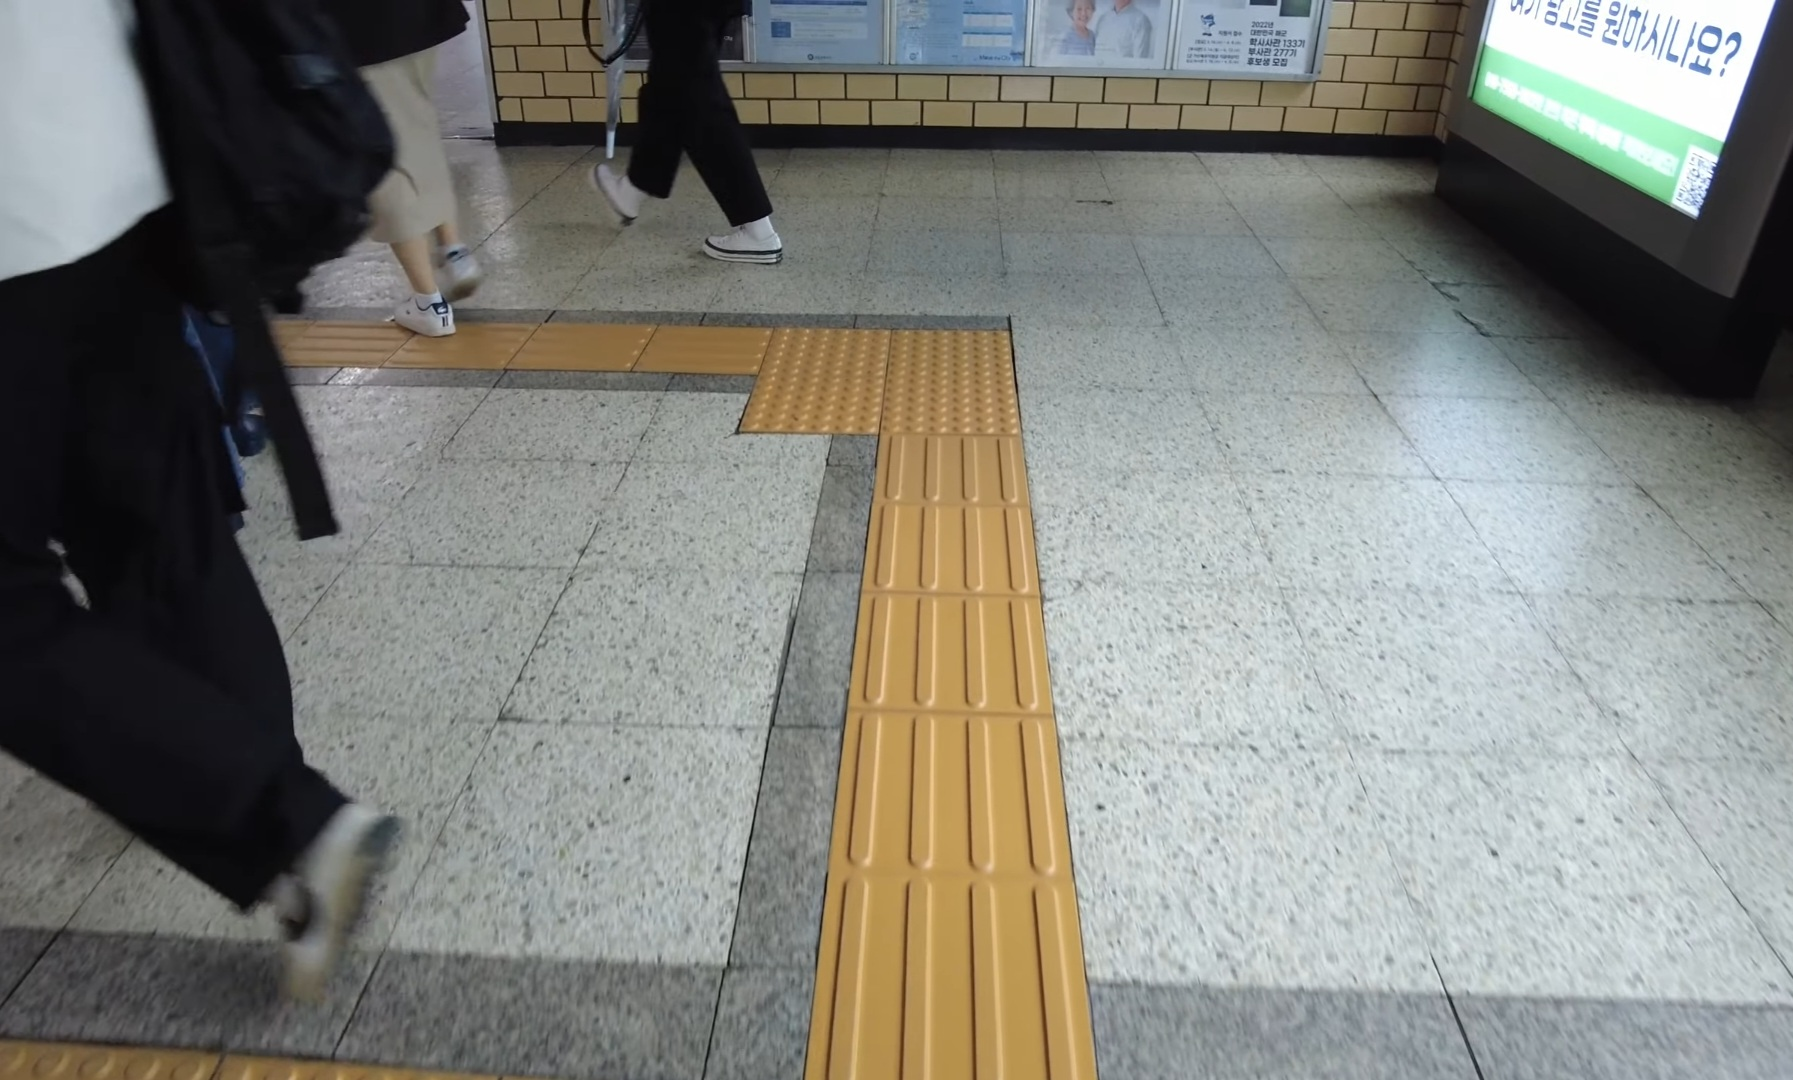guideBlock: (826, 881, 1103, 1080), (856, 711, 1075, 878), (857, 600, 1051, 714), (880, 498, 1045, 616), (881, 425, 1028, 524)
warningBlock: (761, 379, 875, 445), (888, 337, 1012, 387), (884, 378, 1014, 425), (768, 331, 885, 382)
